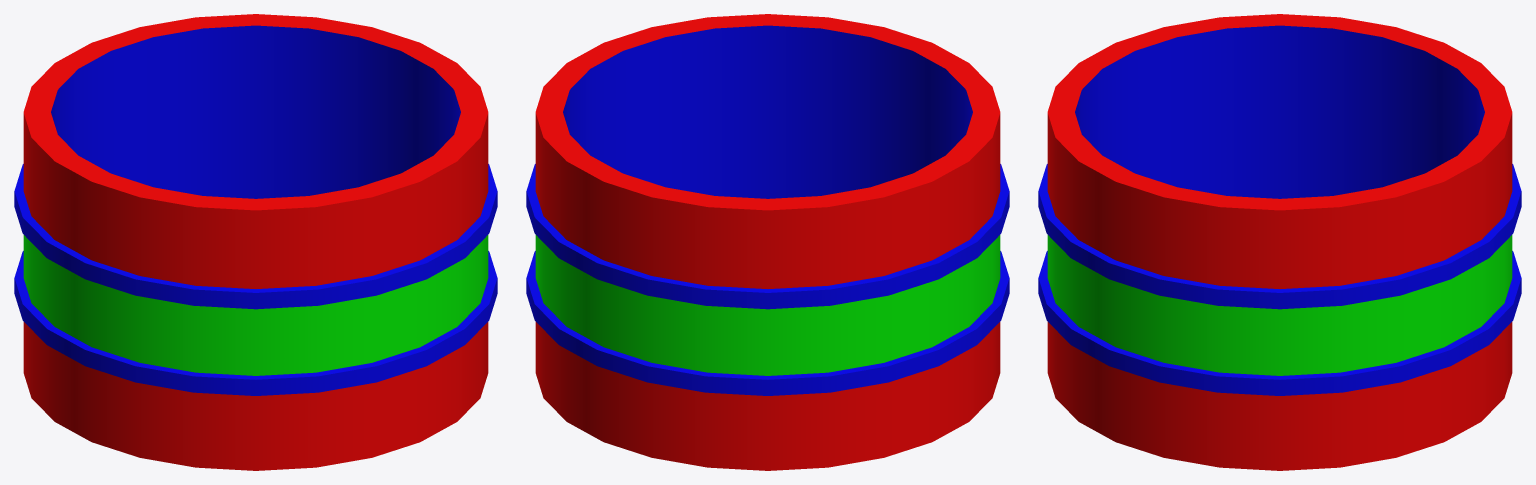
Rendered from Tube_Ringed.FBX.
3 renders of one model, left to right at view 1: azimuth 30°, elevation 25°; view 2: azimuth 150°, elevation 25°; view 3: azimuth 270°, elevation 25°, orthographic.
Parts seen in each view (by area): view 1: Tube_Ringed; view 2: Tube_Ringed; view 3: Tube_Ringed.
Boxes of the visible parts, <box> form: Tube_Ringed: <box>14,14,497,470</box>; Tube_Ringed: <box>526,14,1009,470</box>; Tube_Ringed: <box>1038,14,1521,470</box>.
Size of the model in its own units: 4.3 by 2.56 by 4.3.
